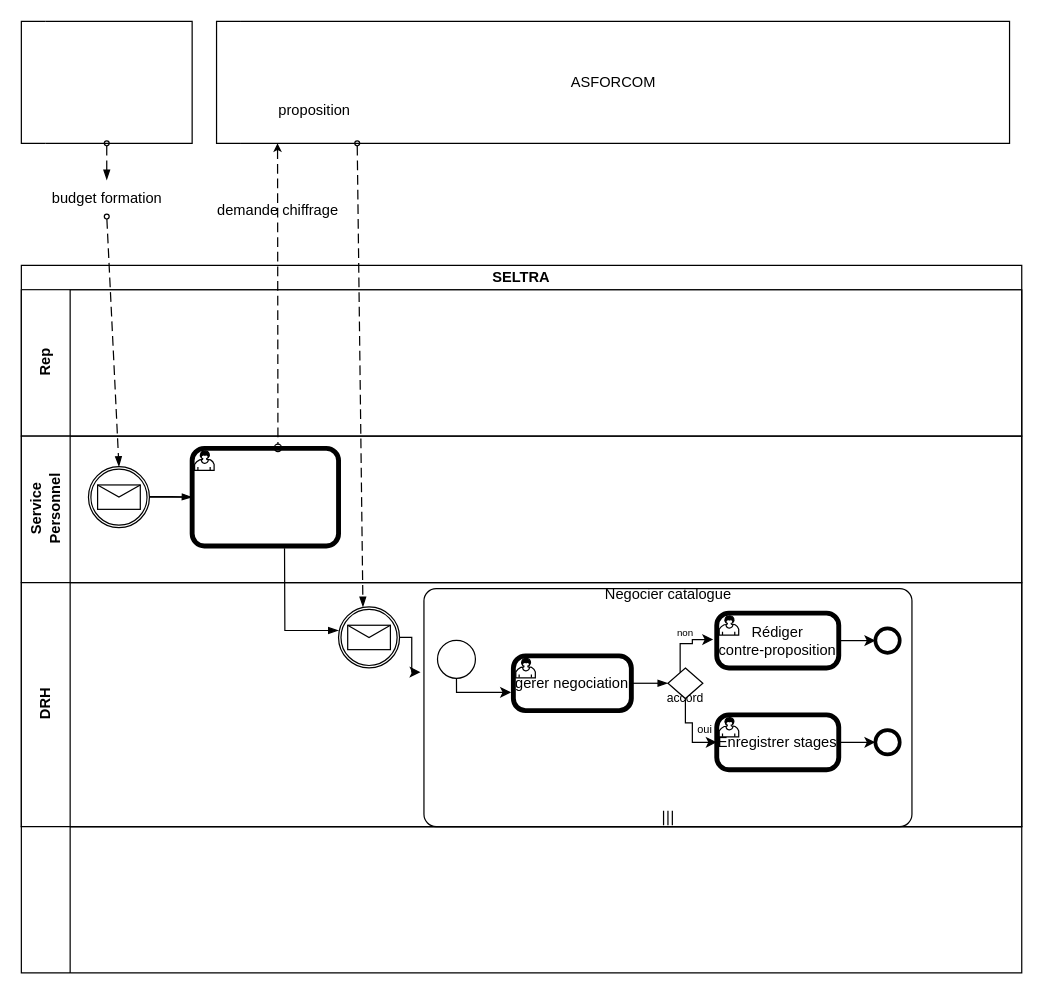
Image size: 1043x994. Some labels were removed from this diagram. The centre of each missing label's shape, as x and y in pixels:
direction: the point at 521,899
Direction Générale: the point at 106,81
Initialiser campagne formation: the point at 265,496
